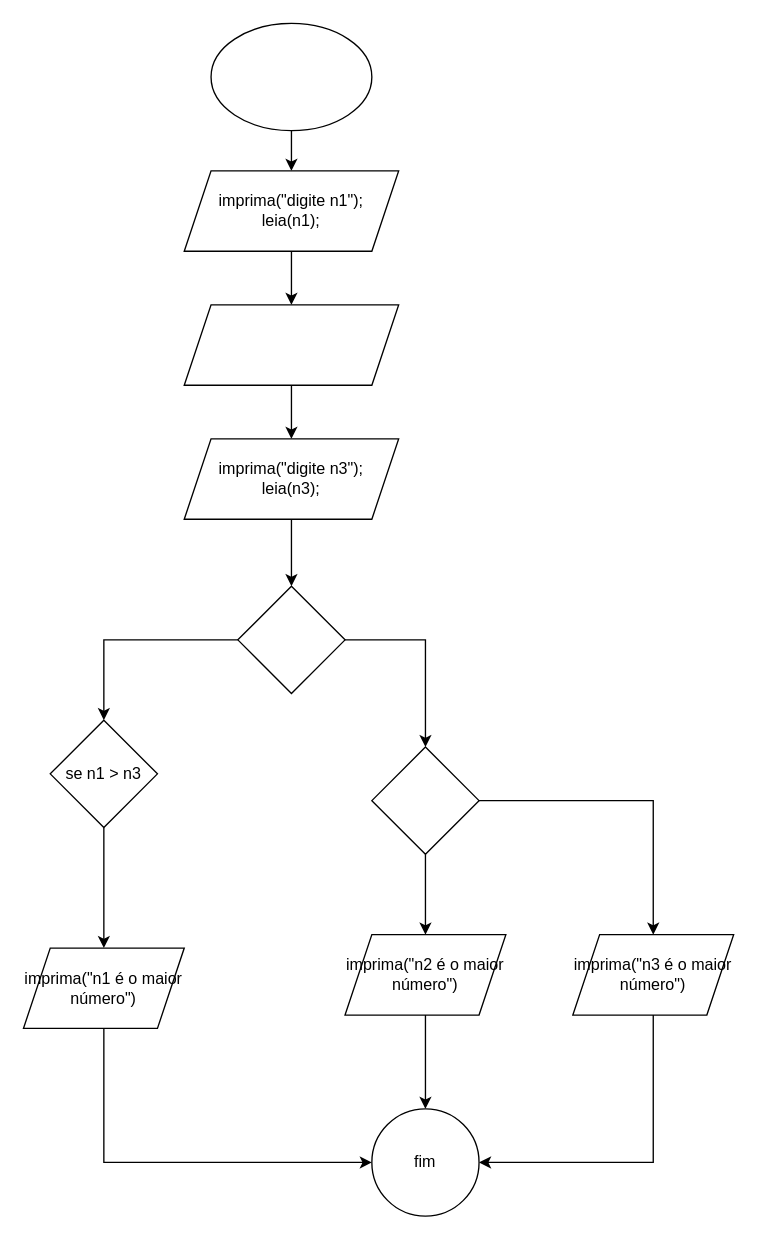
The diagram is 757 pixels wide and 1240 high, and some of its shapes have lost their labels. The shapes that lost their labels are listed below. From the top down, each one's box as (x1, y1, x2, y2) in pixels, then its label:
(210, 22, 372, 131): inicio
(183, 304, 399, 385): imprima("digite n2"); leia(n2);
(237, 585, 345, 693): se n1 > n2
(371, 746, 479, 854): se n2 > n3
